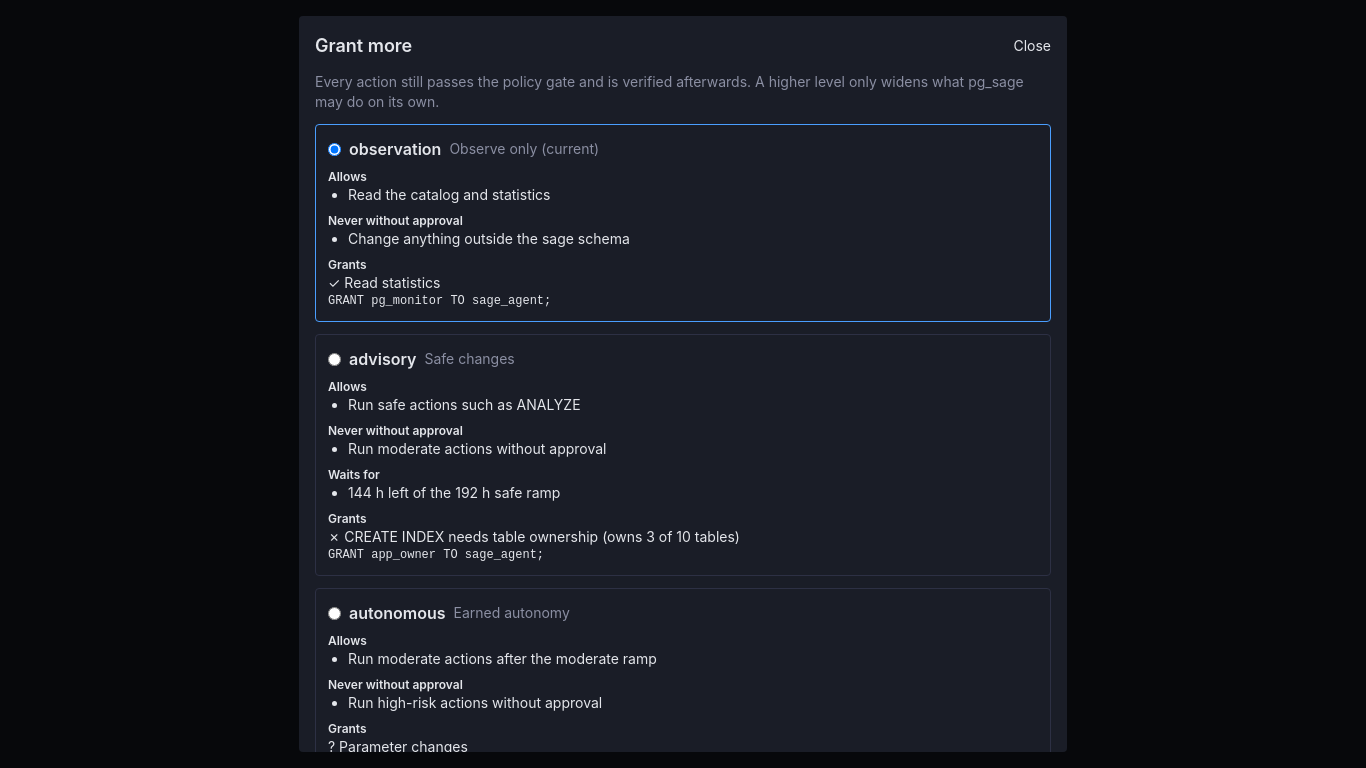
it: GrantMoreDialog › explains the YAML route when the API cannot change trust
Click the 2nd radio button: (334, 359) 328,352 -> 341,366
(page scrolled)
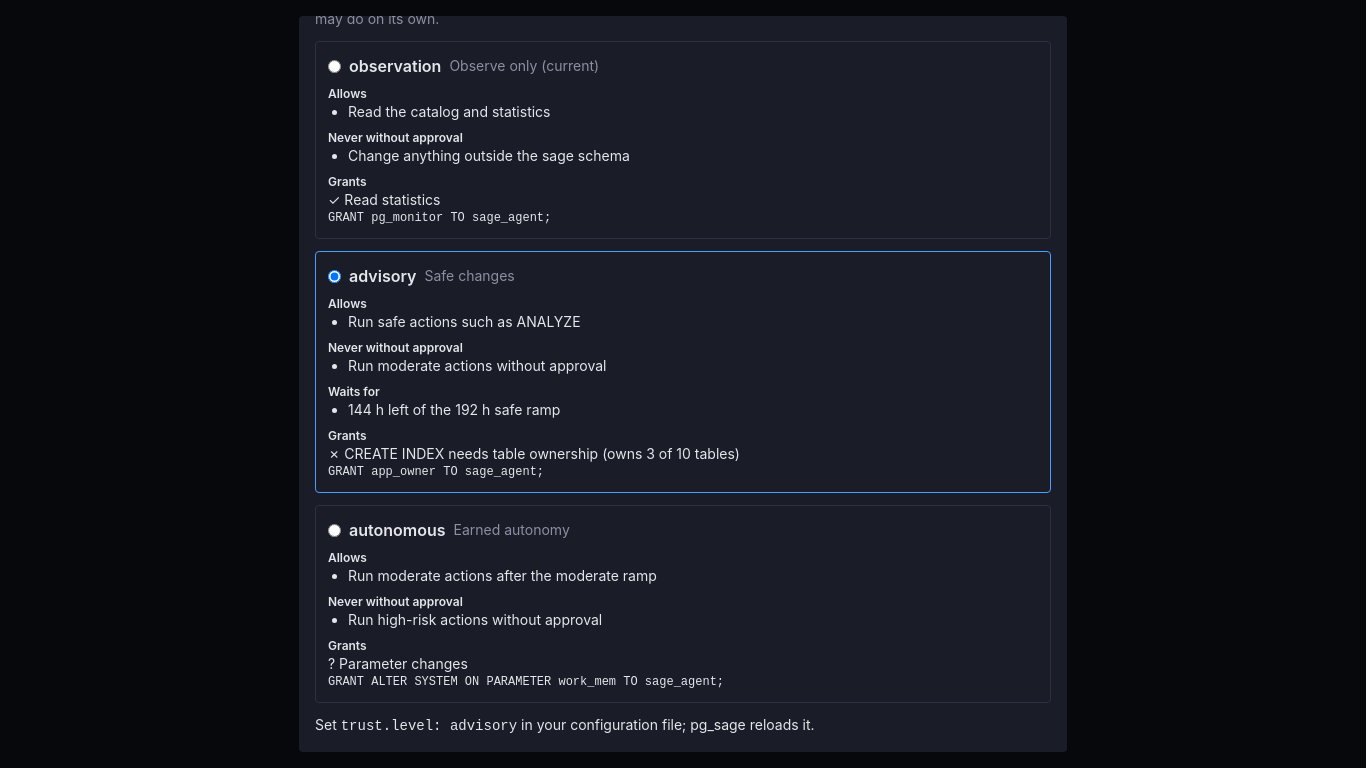
Check: the text "trust.level: advisory" is shown, box 341,718 -> 517,734
